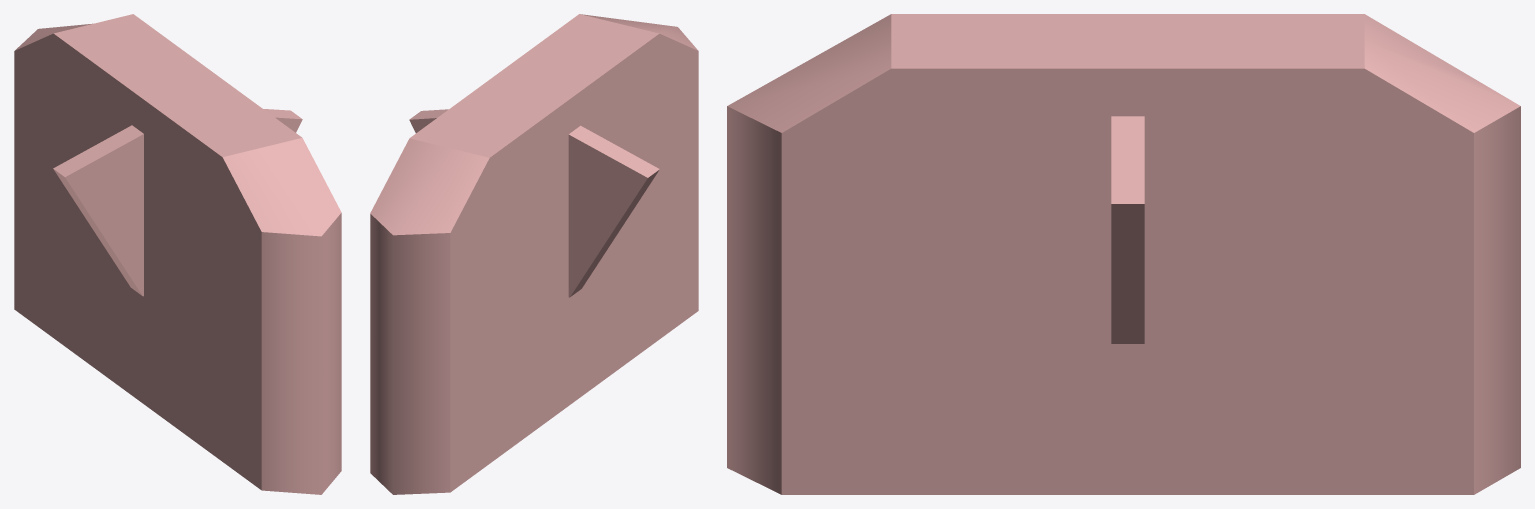
File: MOD_LOBBY entranceTurnstile.fbx
3 renders of one model, left to right at view 1: azimuth 30°, elevation 25°; view 2: azimuth 150°, elevation 25°; view 3: azimuth 270°, elevation 25°, orthographic. The views are drawn at different scales.
Parts seen in each view (by area): view 1: entranceTurnstileBody, L_entturnstileDoor, R_entturnstileDoor; view 2: entranceTurnstileBody, L_entturnstileDoor, R_entturnstileDoor; view 3: entranceTurnstileBody, R_entturnstileDoor.
Boxes of the visible parts, left/top/right/bottom form: entranceTurnstileBody: left=14, top=14, right=341, bottom=494; L_entturnstileDoor: left=53, top=125, right=143, bottom=296; R_entturnstileDoor: left=263, top=109, right=302, bottom=132; entranceTurnstileBody: left=370, top=14, right=698, bottom=494; L_entturnstileDoor: left=568, top=125, right=659, bottom=297; R_entturnstileDoor: left=409, top=109, right=448, bottom=132; entranceTurnstileBody: left=727, top=14, right=1520, bottom=494; R_entturnstileDoor: left=1111, top=116, right=1144, bottom=343.
Size of the model in its own units: 91.74 by 112 by 189.
